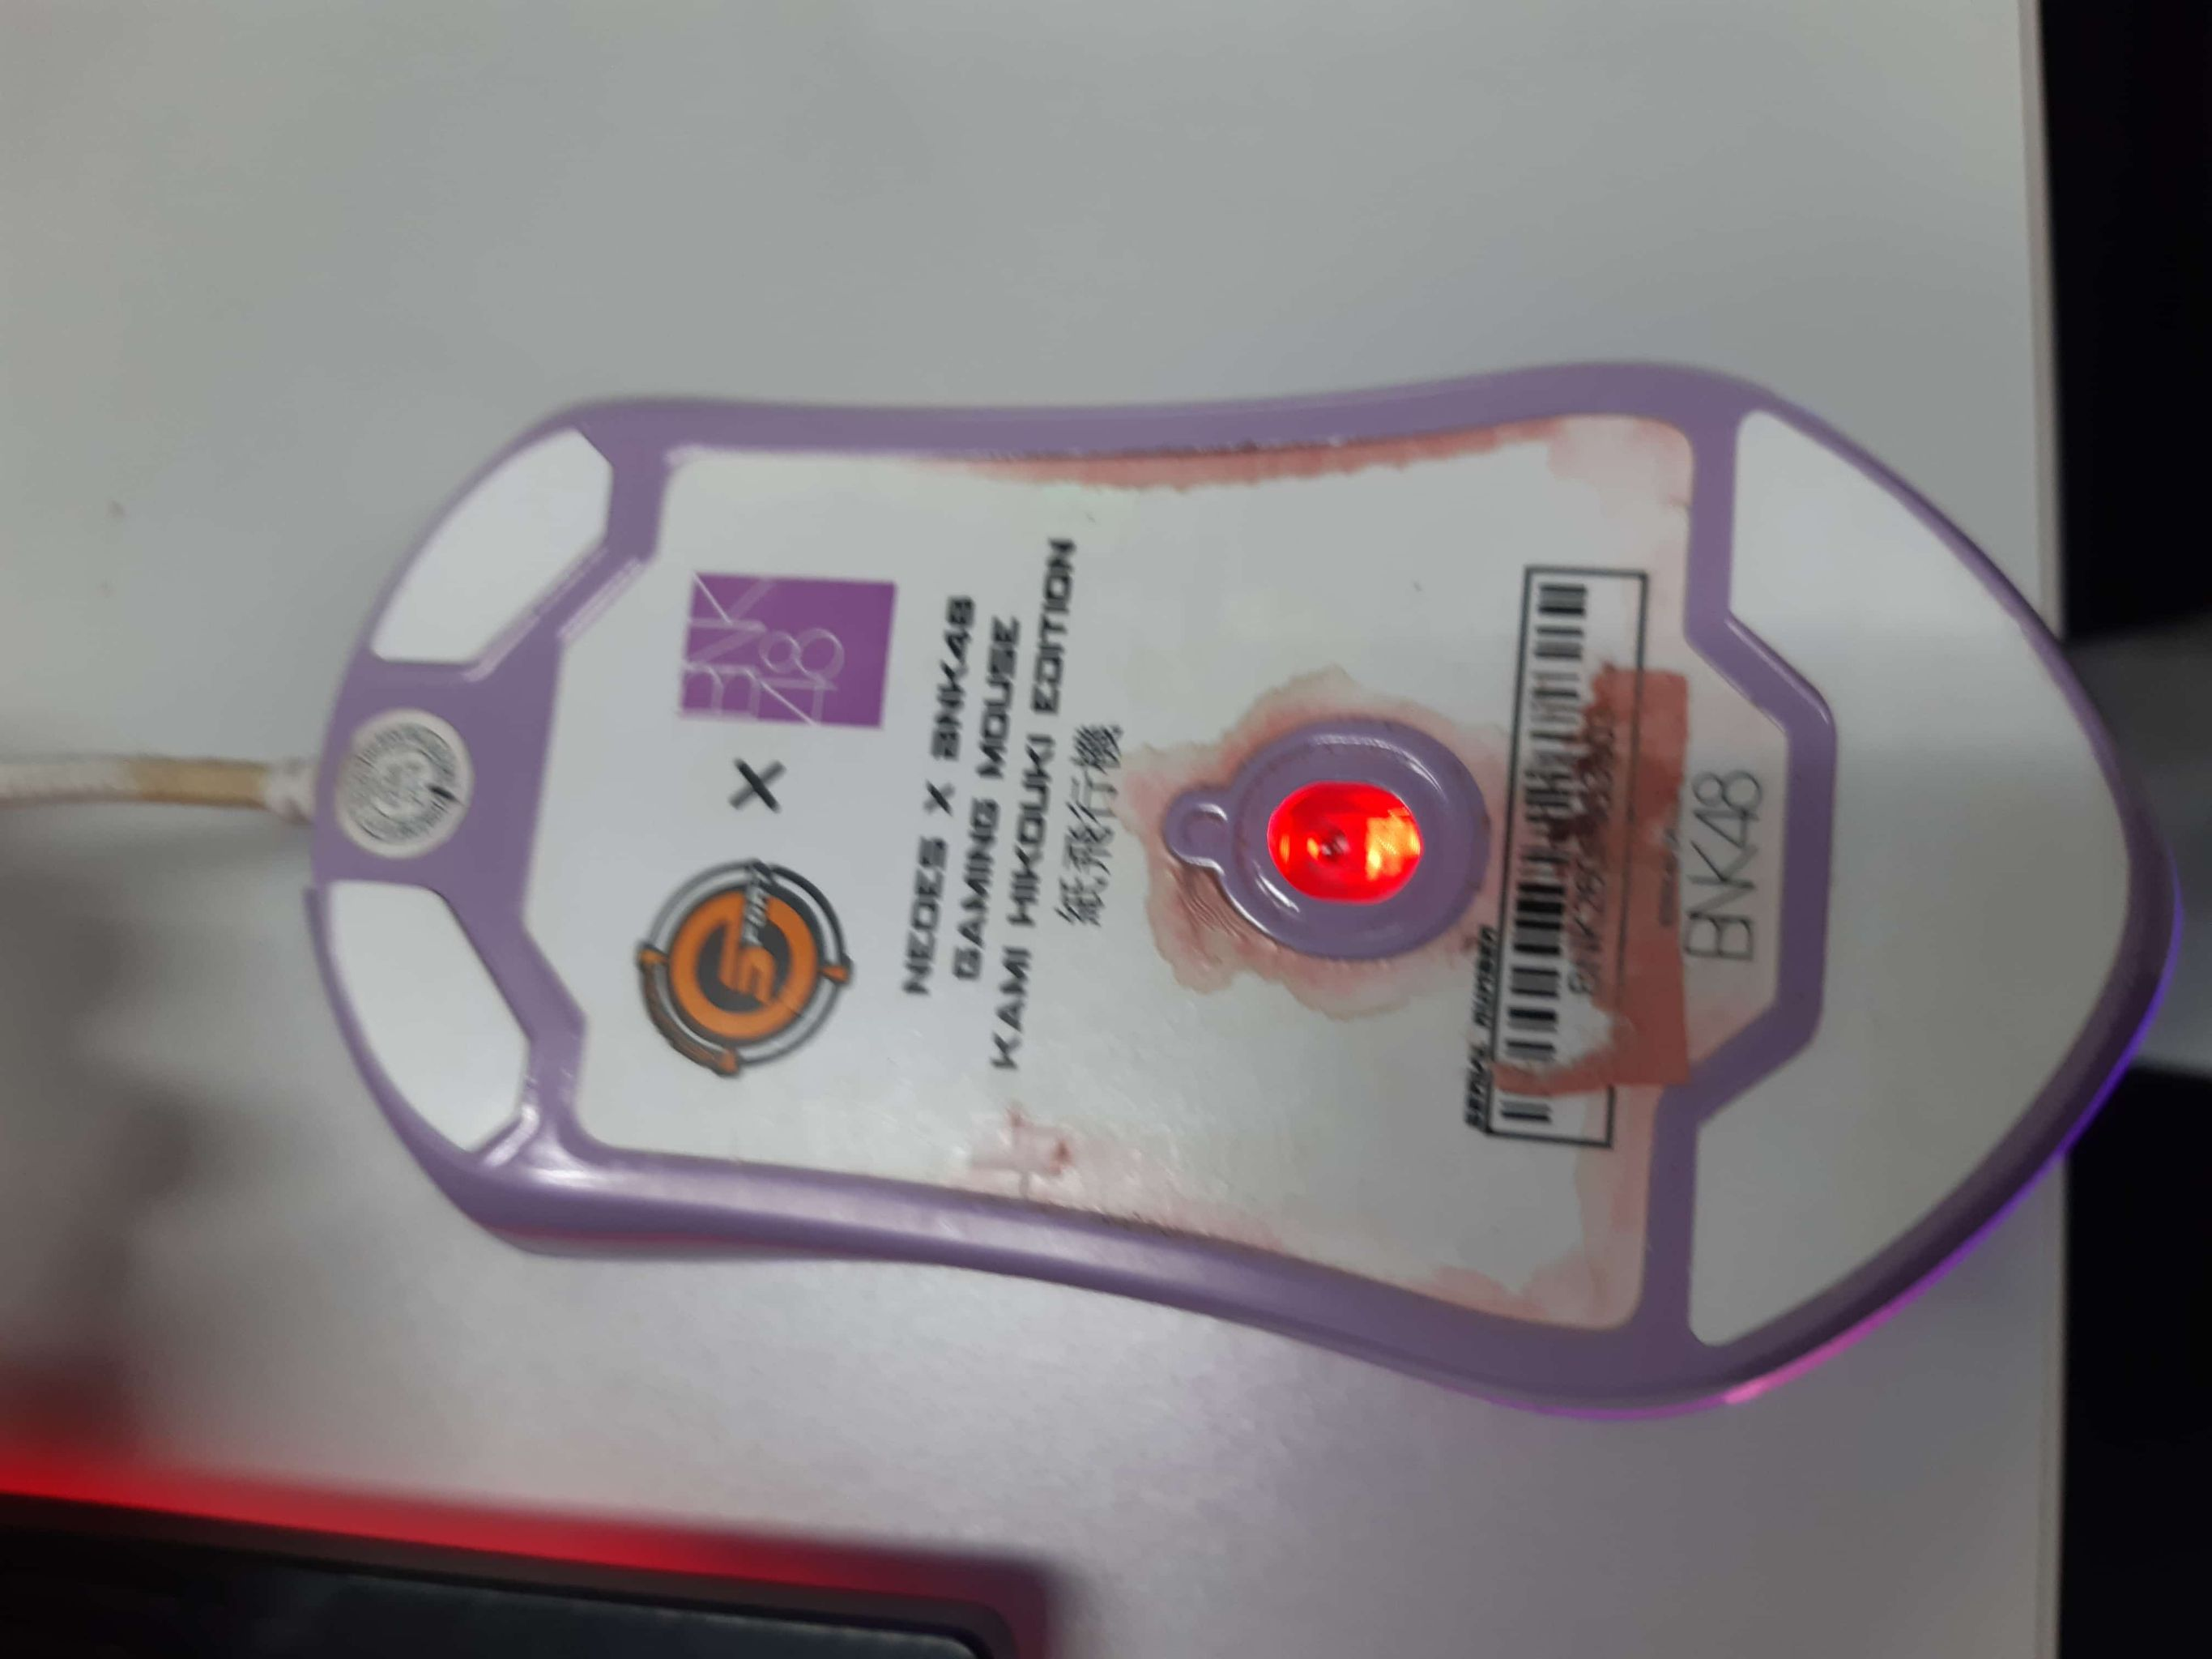mouse: (314, 340, 2170, 1452)
